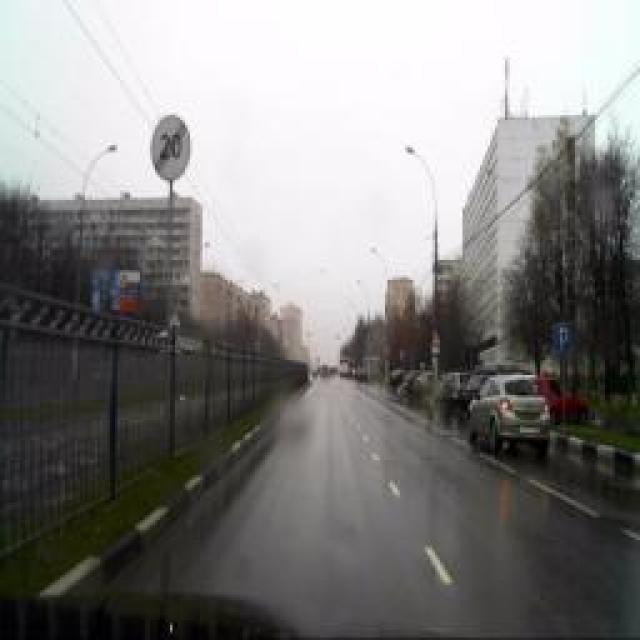sign: (430, 332, 440, 346)
